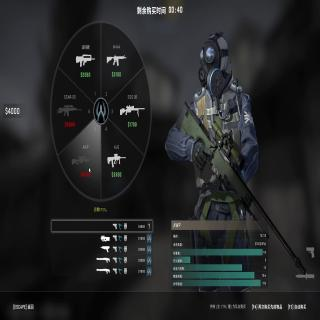CT-Head: (199, 32, 229, 97)
